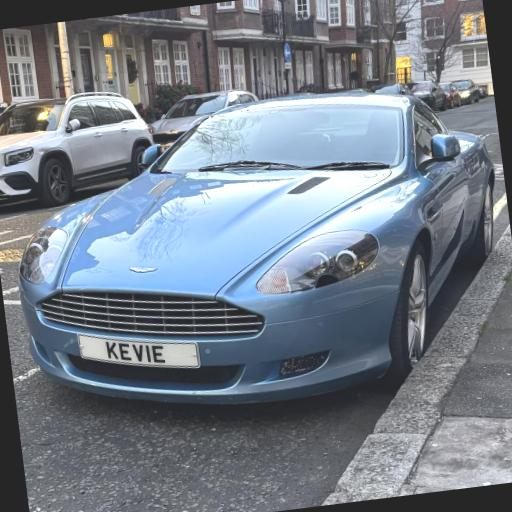numberplates: (79, 335, 200, 367)
